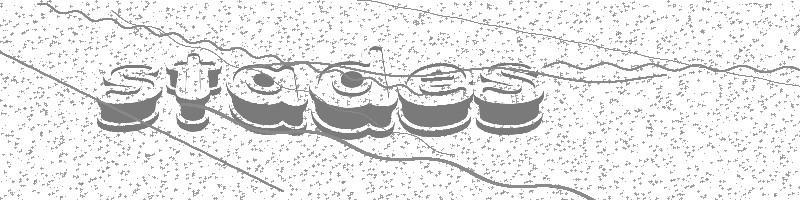a: (228, 65, 306, 134)
d: (309, 47, 397, 140)
e: (399, 63, 474, 136)
s: (473, 63, 545, 134), (98, 65, 163, 132)
t: (167, 53, 223, 132)
